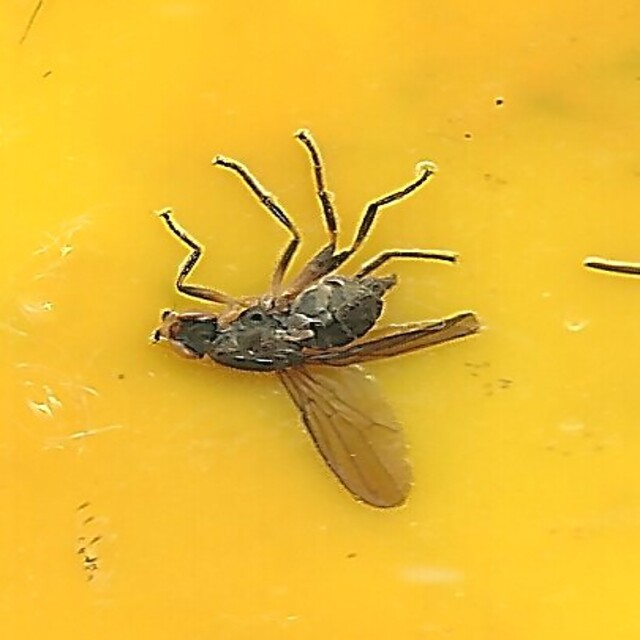Brachycera: (158, 131, 482, 509)
